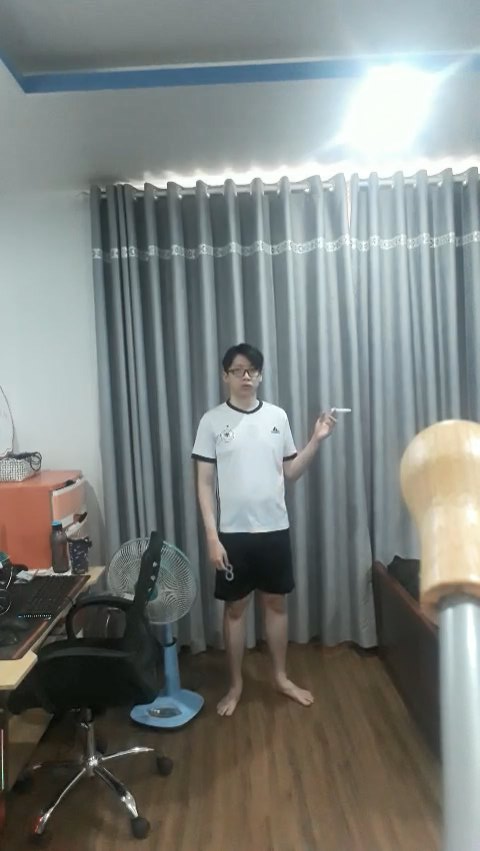cigarette: (332, 407, 353, 414)
person: (178, 339, 334, 723)
